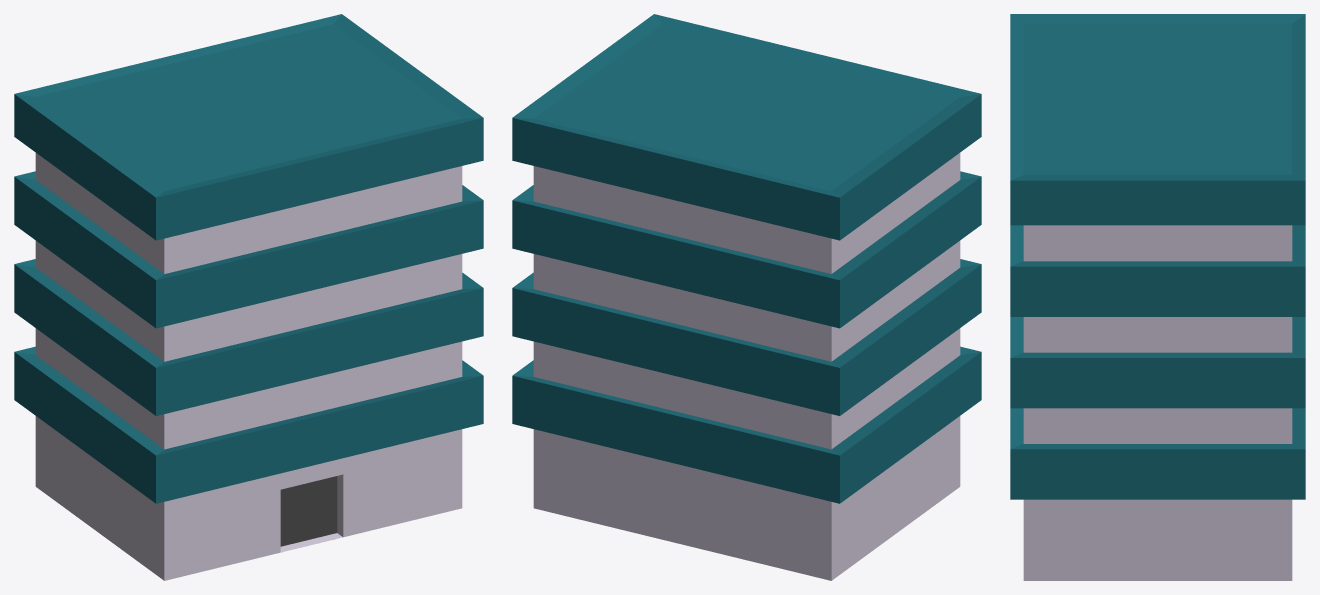
Rendered from office.fbx.
3 renders of one model, left to right at view 1: azimuth 30°, elevation 25°; view 2: azimuth 150°, elevation 25°; view 3: azimuth 270°, elevation 25°, orthographic. The views are drawn at different scales.
Visible parts, largest first — view 1: office; view 2: office; view 3: office.
Part boxes in pixels (x1,y1,x2,y2): office: (14,14,483,580); office: (512,14,981,580); office: (1010,14,1305,580).
Bounding box in the file's own units: 17.6 × 20.1 × 13.2.
